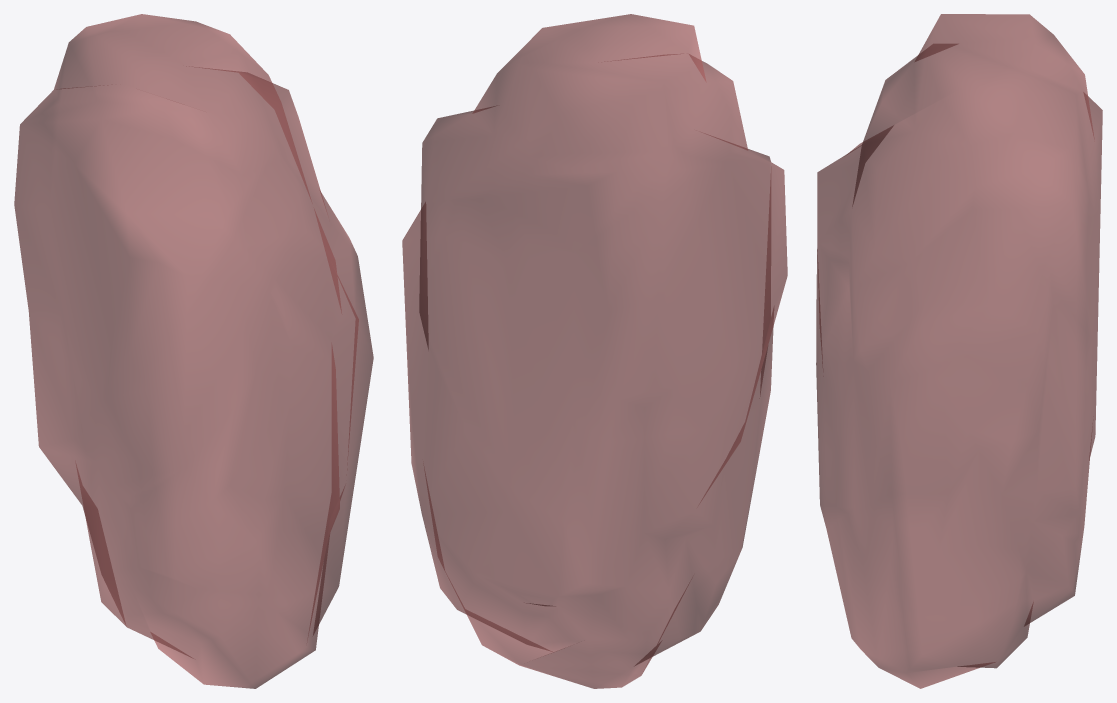
File: SM_Rock_Medium_02_Complex_Collision.fbx
The picture shows the model from 3 angles, left to right: view 1: azimuth 30°, elevation 25°; view 2: azimuth 150°, elevation 25°; view 3: azimuth 270°, elevation 25°; orthographic projection. The views are drawn at different scales.
Visible parts, largest first — view 1: SM_Rock_Medium_02_Complex_Collision; view 2: SM_Rock_Medium_02_Complex_Collision; view 3: SM_Rock_Medium_02_Complex_Collision.
Boxes of the visible parts, box(x1,y1,x2,y2) form: SM_Rock_Medium_02_Complex_Collision: box(14, 14, 373, 688); SM_Rock_Medium_02_Complex_Collision: box(402, 14, 787, 688); SM_Rock_Medium_02_Complex_Collision: box(816, 14, 1102, 688).
Size of the model in its own units: 344 by 746 by 317.
